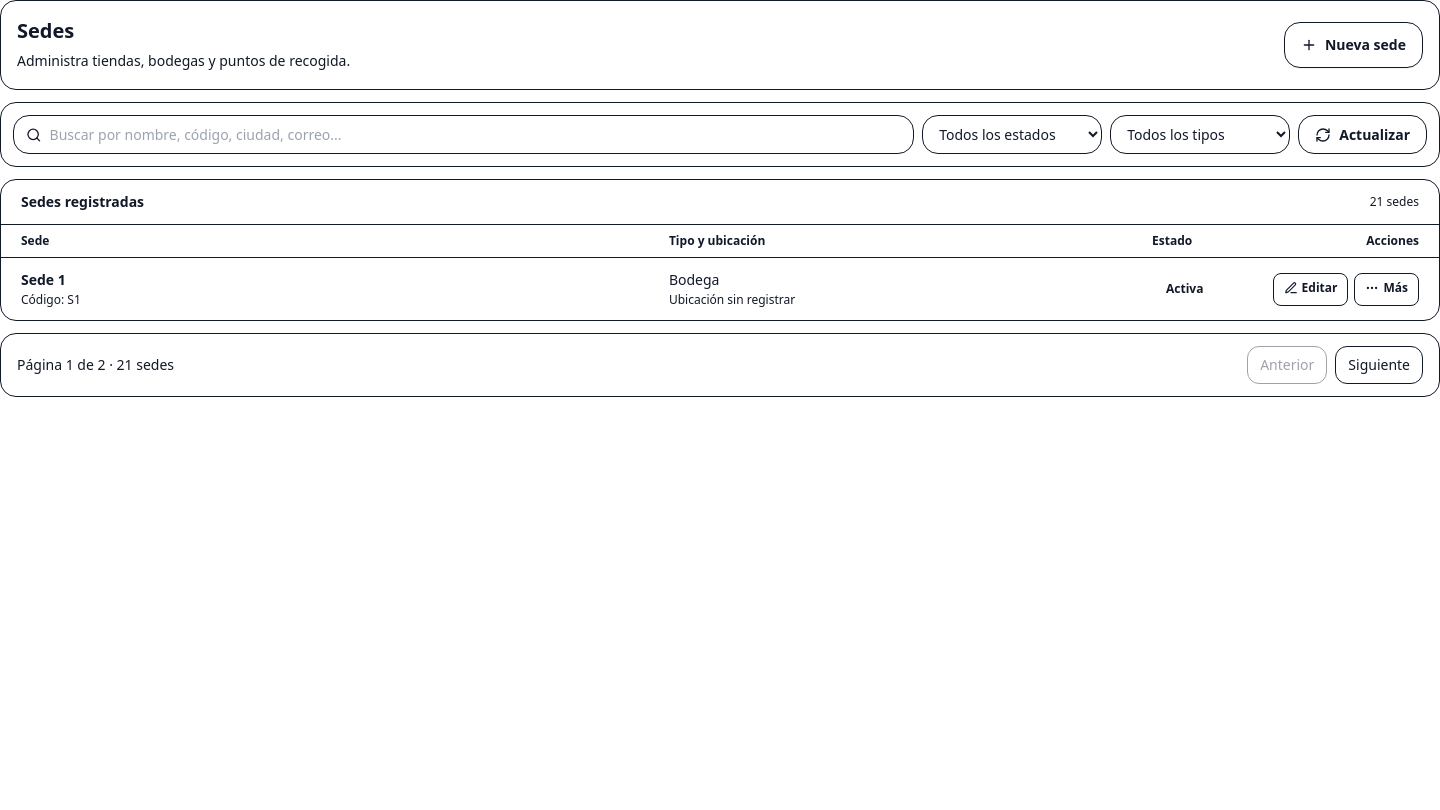
Test: explica qué operaciones y usuarios impiden desactivar una sede y abre el módulo correspondiente
The width and height of the screenshot is (1440, 810).
Click the button with aria-label "Opciones de Sede 1": (1387, 289) [1354,272,1419,306]
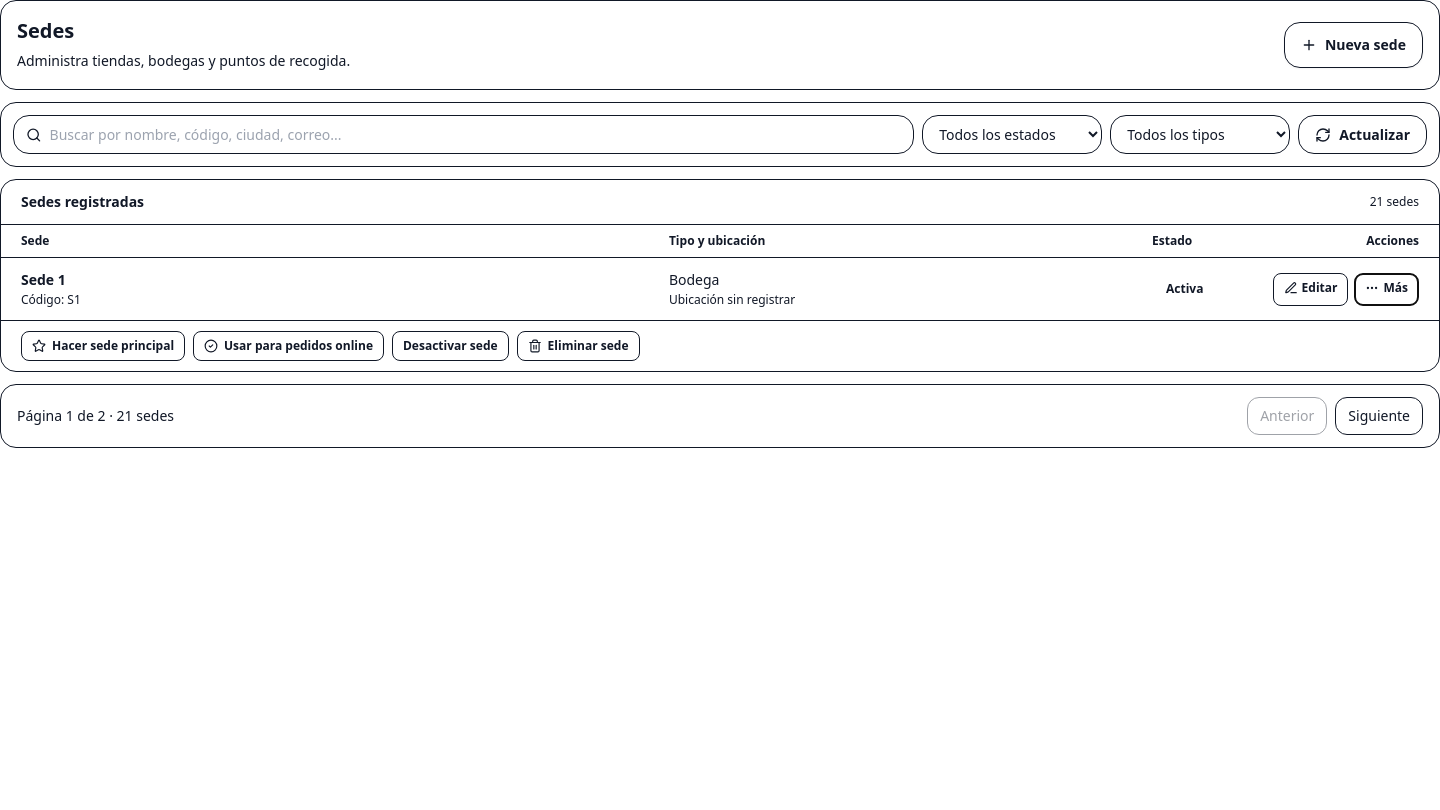
Click the button with aria-label "Desactivar Sede 1": (450, 346) [392,331,509,361]
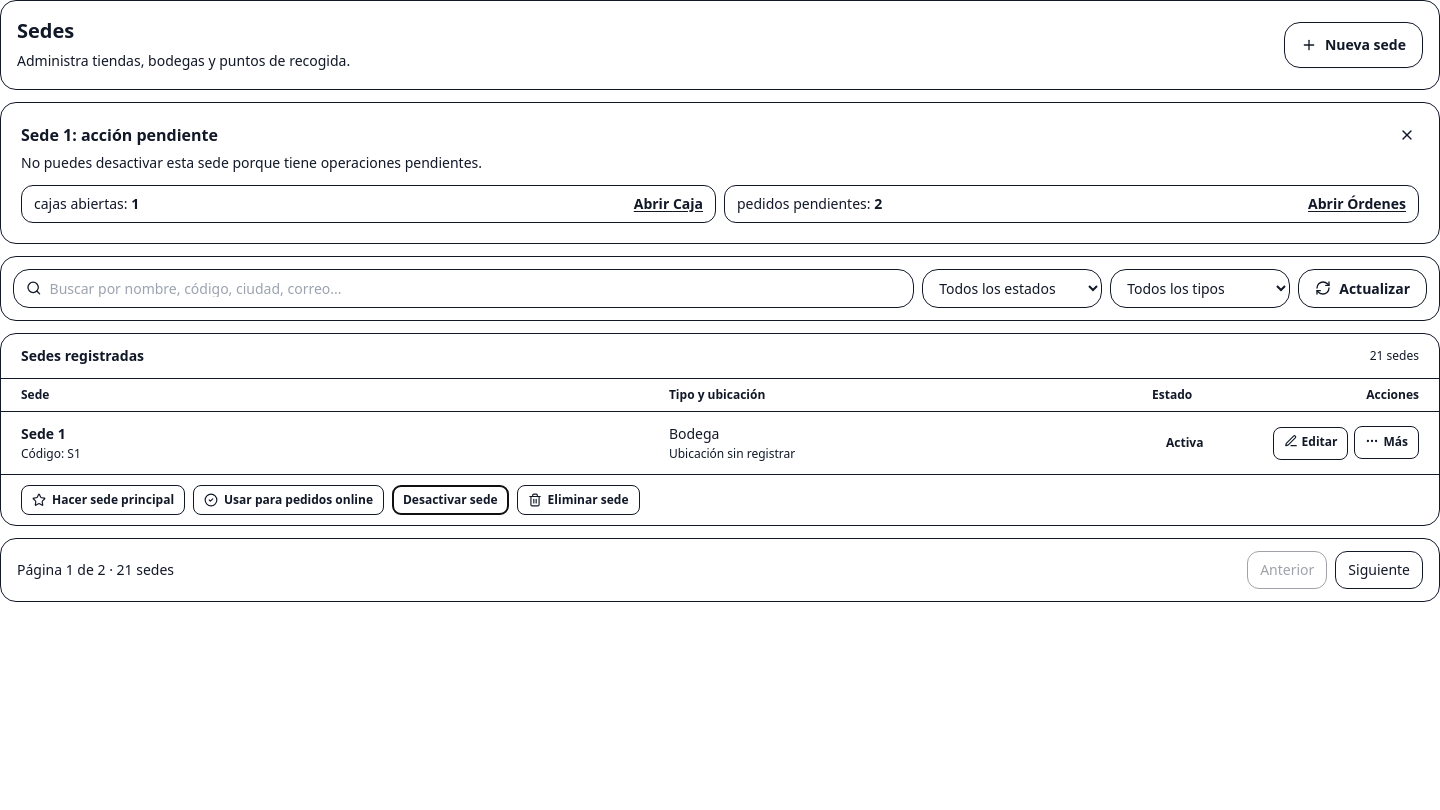
Expected: the message named "Sede con pendientes" shows "pedidos pendientes: 2", [0,102,1439,244]
Expected: the message named "Sede con pendientes" shows "cajas abiertas: 1", [0,102,1439,244]
Click the button with aria-label "Desactivar Sede 1": (450, 500) [392,485,509,515]
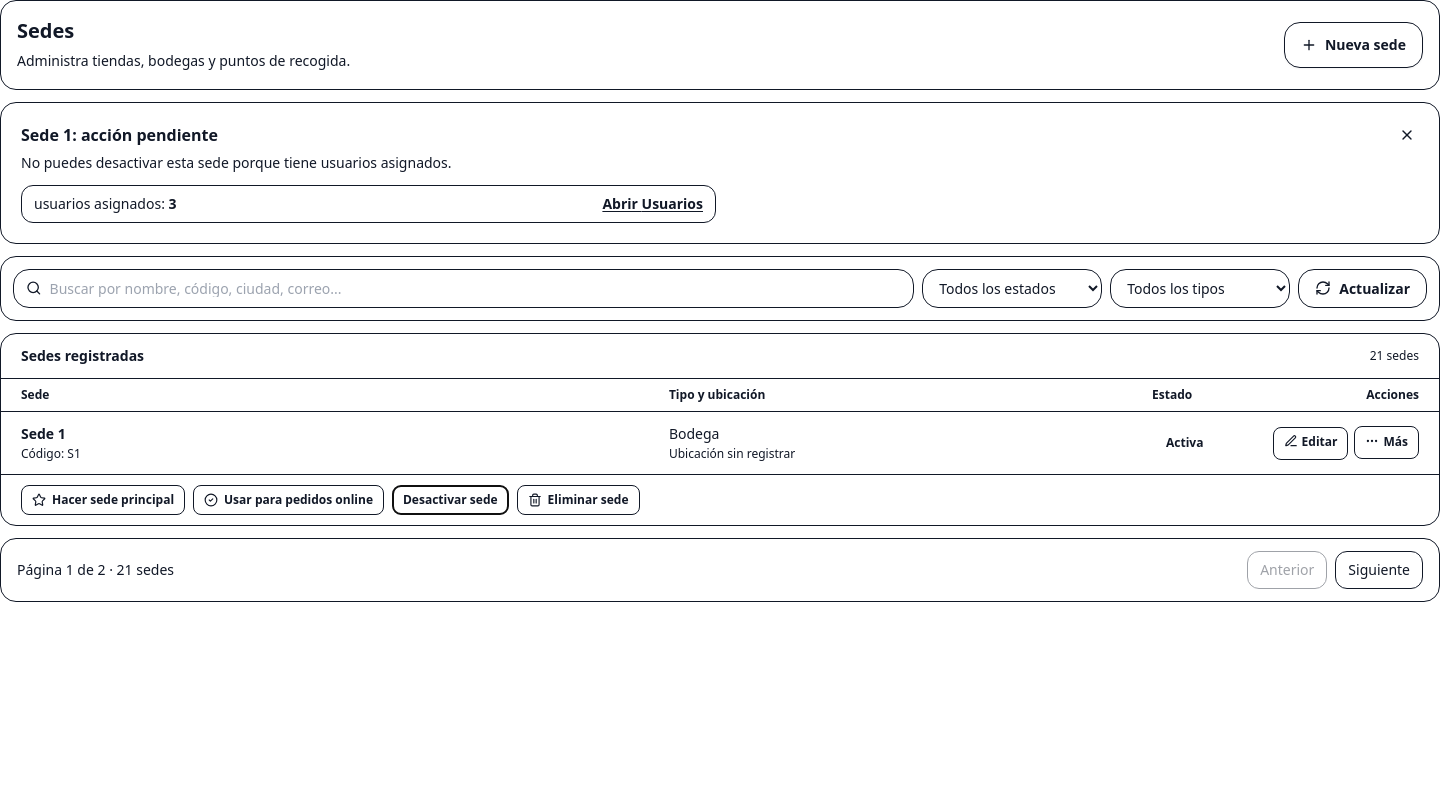
Expected: the message named "Sede con pendientes" shows "usuarios asignados: 3", [0,102,1439,244]
Expected: the message named "Sede con pendientes" no longer shows "pedidos pendientes", [0,102,1439,244]
